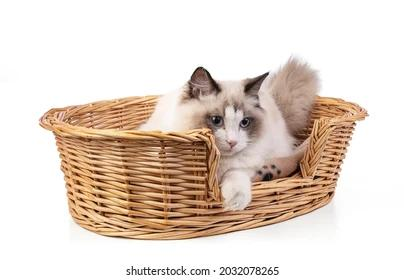ragdoll: (180, 51, 274, 171)
